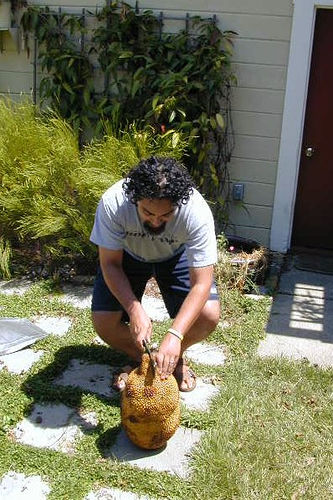jackfruit: (121, 354, 181, 451)
